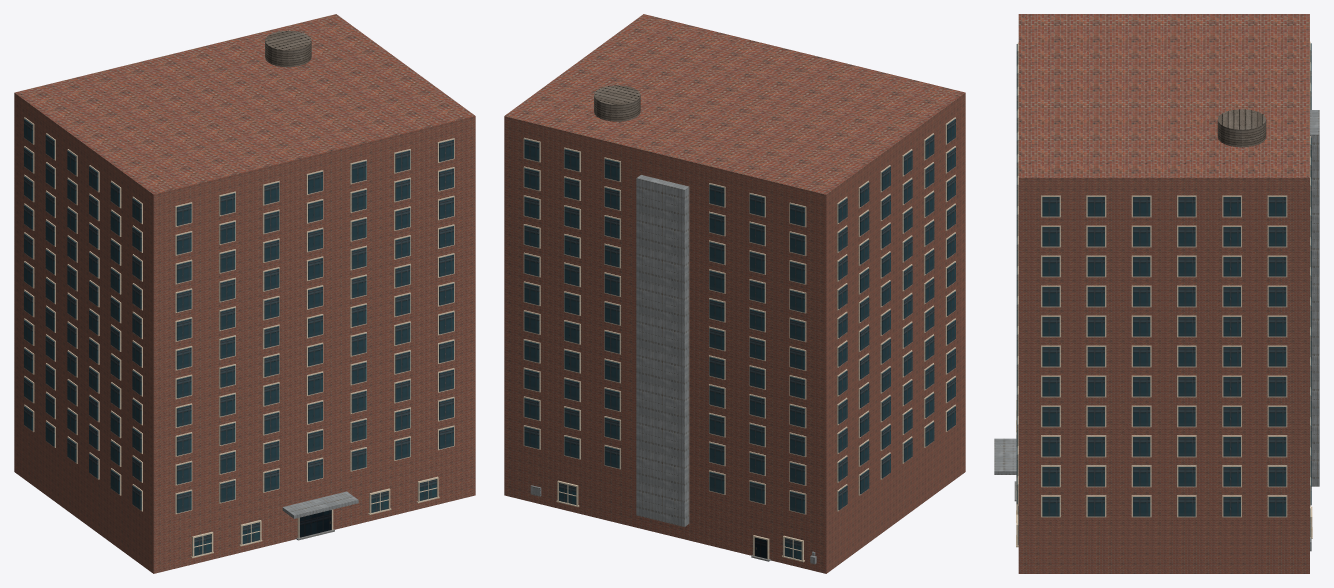
File: brick-office-block_lod0.gltf
3 views of the same model, side by side, from view 1: azimuth 30°, elevation 25°; view 2: azimuth 150°, elevation 25°; view 3: azimuth 270°, elevation 25° (orthographic). The views are drawn at different scales.
Parts seen in each view (by area): view 1: brick-office-block_main, brick-office-block_fen_07-glass-curtain-blue_1, brick-office-block_fen_04-limestone_0, brick-office-block__water_tank, brick-office-block__marquee, brick-office-block_fen_07-glass-curtain-blue_2_t; view 2: brick-office-block_main, brick-office-block_fen_07-glass-curtain-blue_1, brick-office-block__fire_escape, brick-office-block_fen_04-limestone_0, brick-office-block__water_tank; view 3: brick-office-block_main, brick-office-block_fen_07-glass-curtain-blue_1, brick-office-block_fen_04-limestone_0, brick-office-block__fire_escape, brick-office-block__water_tank, brick-office-block__marquee.
Part boxes in pixels (bbox=[...]): brick-office-block_main: bbox=[14, 14, 475, 573]; brick-office-block_fen_07-glass-curtain-blue_1: bbox=[24, 119, 453, 556]; brick-office-block_fen_04-limestone_0: bbox=[24, 117, 454, 558]; brick-office-block__water_tank: bbox=[265, 30, 311, 67]; brick-office-block__marquee: bbox=[282, 491, 358, 518]; brick-office-block_fen_07-glass-curtain-blue_2_t: bbox=[299, 510, 331, 537]; brick-office-block_main: bbox=[504, 14, 965, 573]; brick-office-block_fen_07-glass-curtain-blue_1: bbox=[524, 119, 955, 559]; brick-office-block__fire_escape: bbox=[636, 175, 689, 526]; brick-office-block_fen_04-limestone_0: bbox=[523, 117, 955, 562]; brick-office-block__water_tank: bbox=[594, 85, 640, 121]; brick-office-block_main: bbox=[1018, 14, 1309, 573]; brick-office-block_fen_07-glass-curtain-blue_1: bbox=[1016, 43, 1311, 544]; brick-office-block_fen_04-limestone_0: bbox=[1016, 41, 1312, 547]; brick-office-block__fire_escape: bbox=[1310, 110, 1319, 486]; brick-office-block__water_tank: bbox=[1217, 109, 1266, 147]; brick-office-block__marquee: bbox=[994, 438, 1016, 474].
Size of the model in its own units: 40.4 by 47.02 by 33.5.
